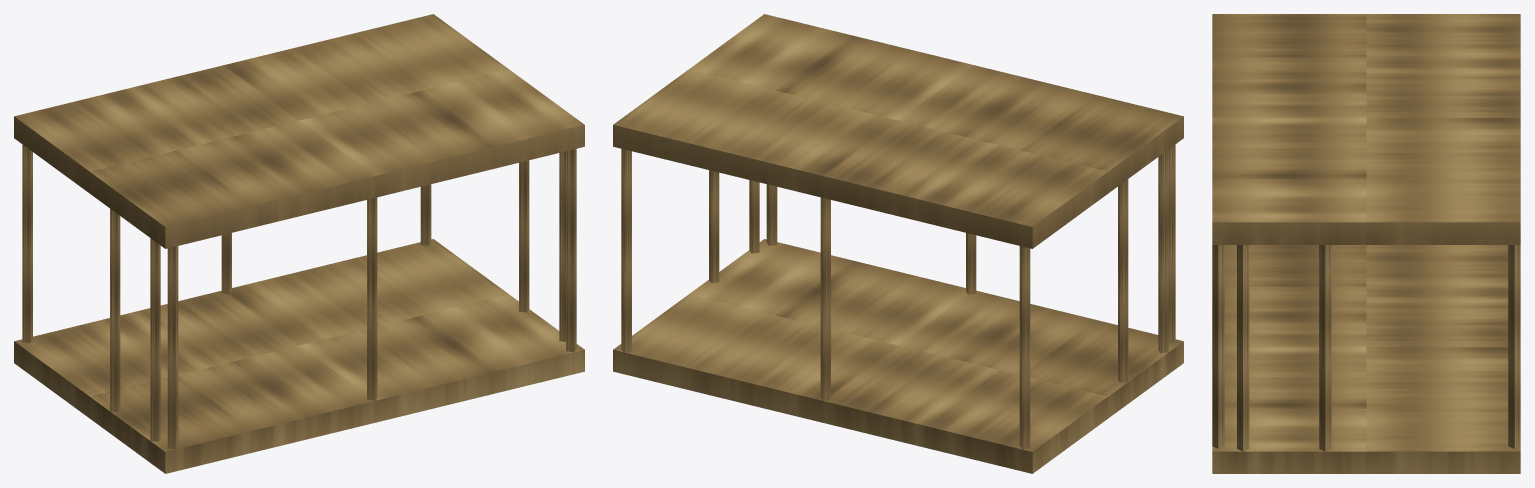
The model's file is Cage_Poultry_1_LOD2.gltf.
3 views of the same model, side by side, from view 1: azimuth 30°, elevation 25°; view 2: azimuth 150°, elevation 25°; view 3: azimuth 270°, elevation 25° (orthographic).
Visible parts, largest first — view 1: Cage_Poultry_1_LOD2; view 2: Cage_Poultry_1_LOD2; view 3: Cage_Poultry_1_LOD2.
Part boxes in pixels (x1,y1,x2,y2): Cage_Poultry_1_LOD2: (14, 14, 584, 473); Cage_Poultry_1_LOD2: (613, 14, 1183, 473); Cage_Poultry_1_LOD2: (1212, 14, 1520, 473).
Bounding box in the file's own units: 0.8 × 0.45 × 0.5.
Materials: 1 (1 with a texture image).
